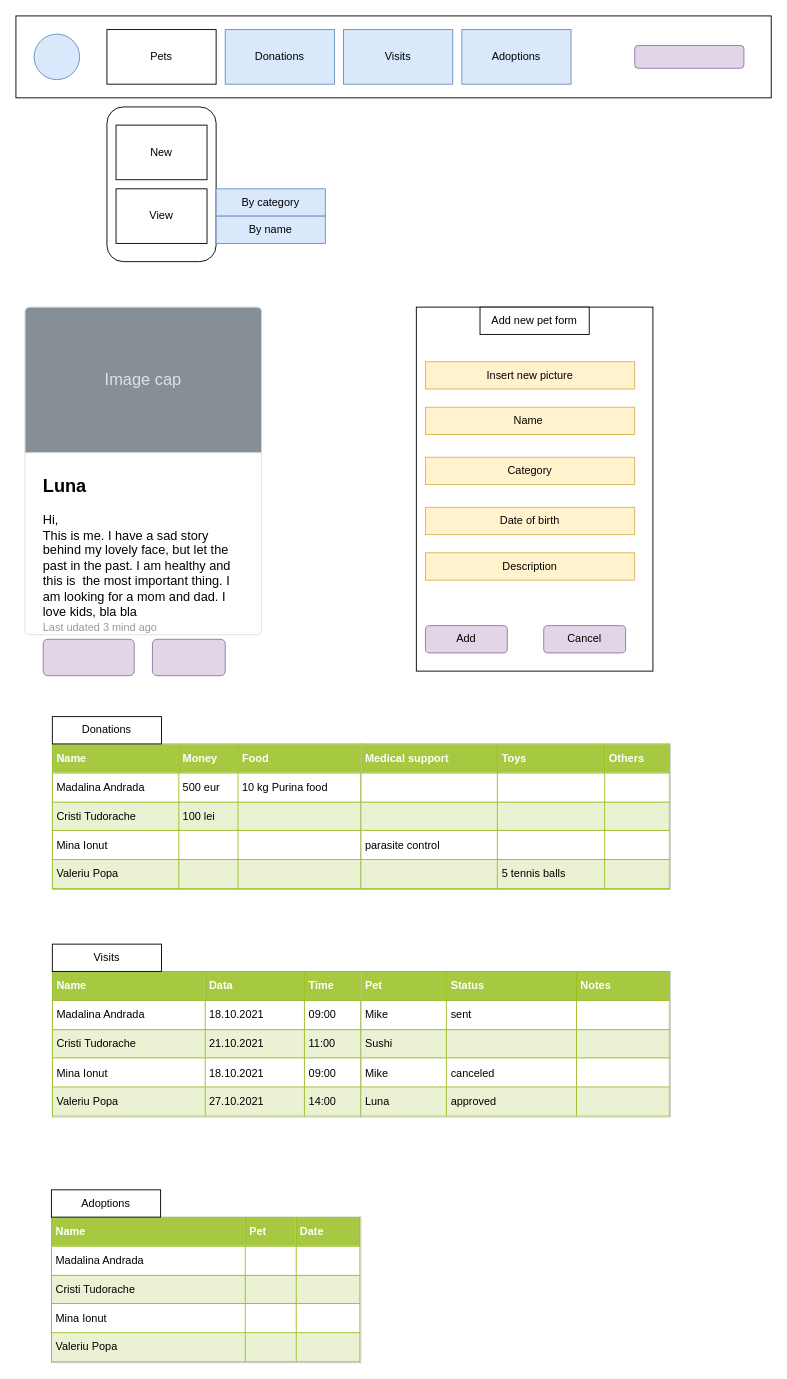
This 787x1379 diagram has some shape labels left out. Each missing label, with the centre of its shape:
"DELETE" goes at point 188,657.
"logo" goes at point 56,56.
"Logout" goes at point 689,56.
"UPDATE" goes at point 88,657.
